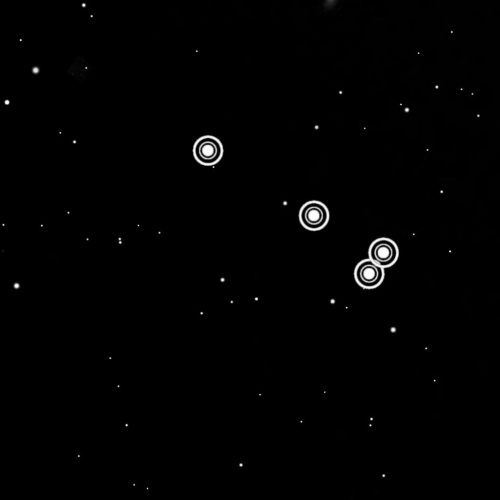sagitta: (184, 125, 404, 297)
